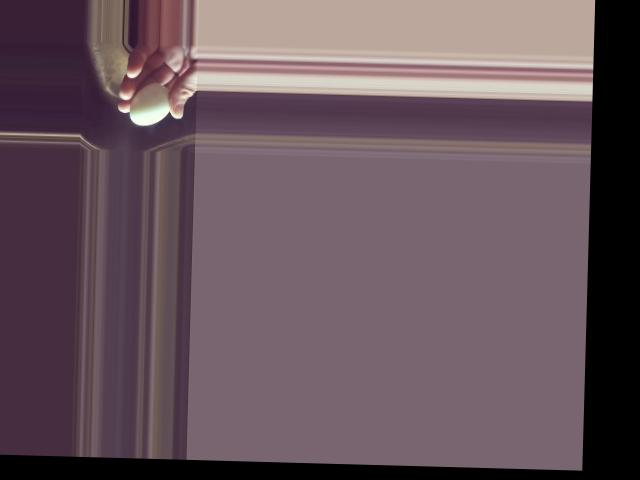egg: (130, 83, 171, 126)
